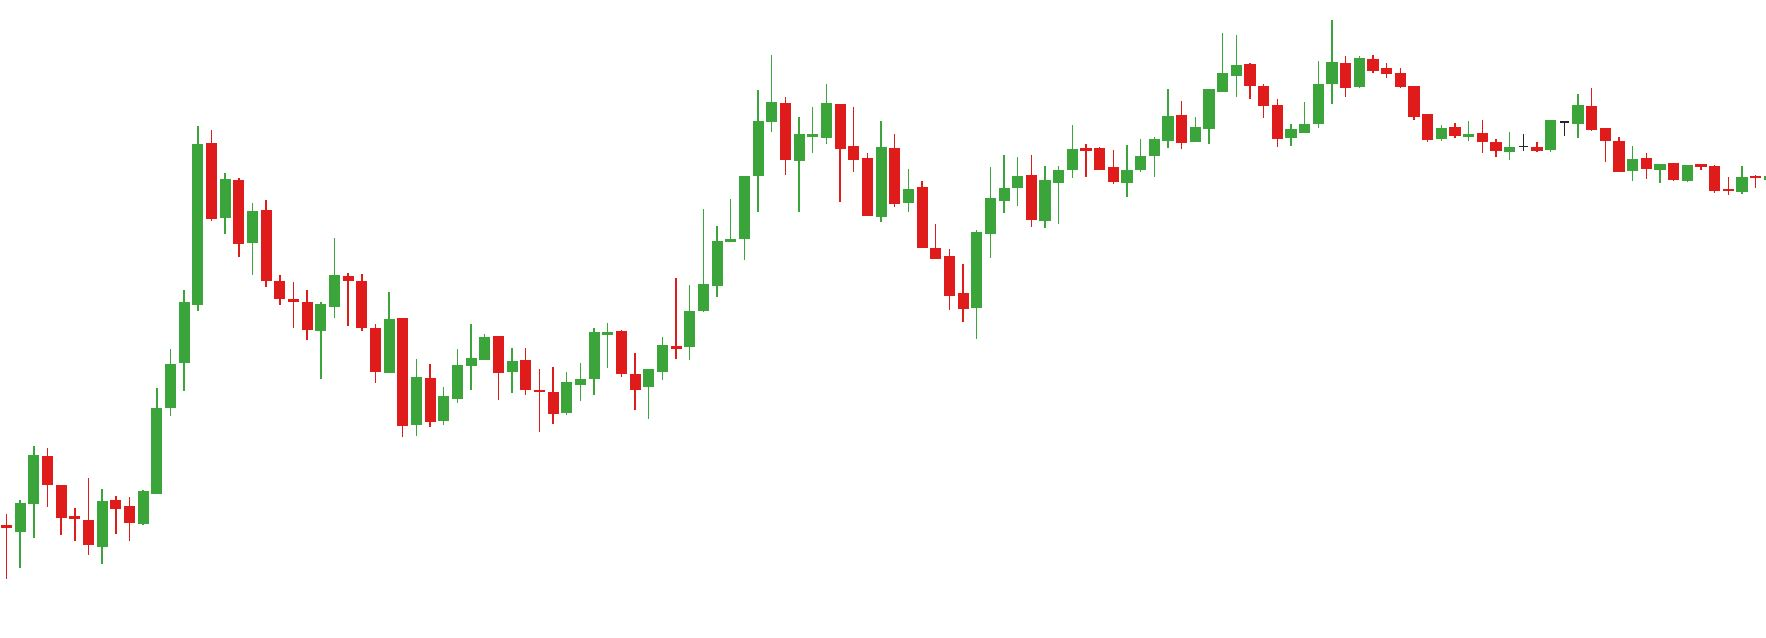sell: (1213, 20, 1353, 121)
